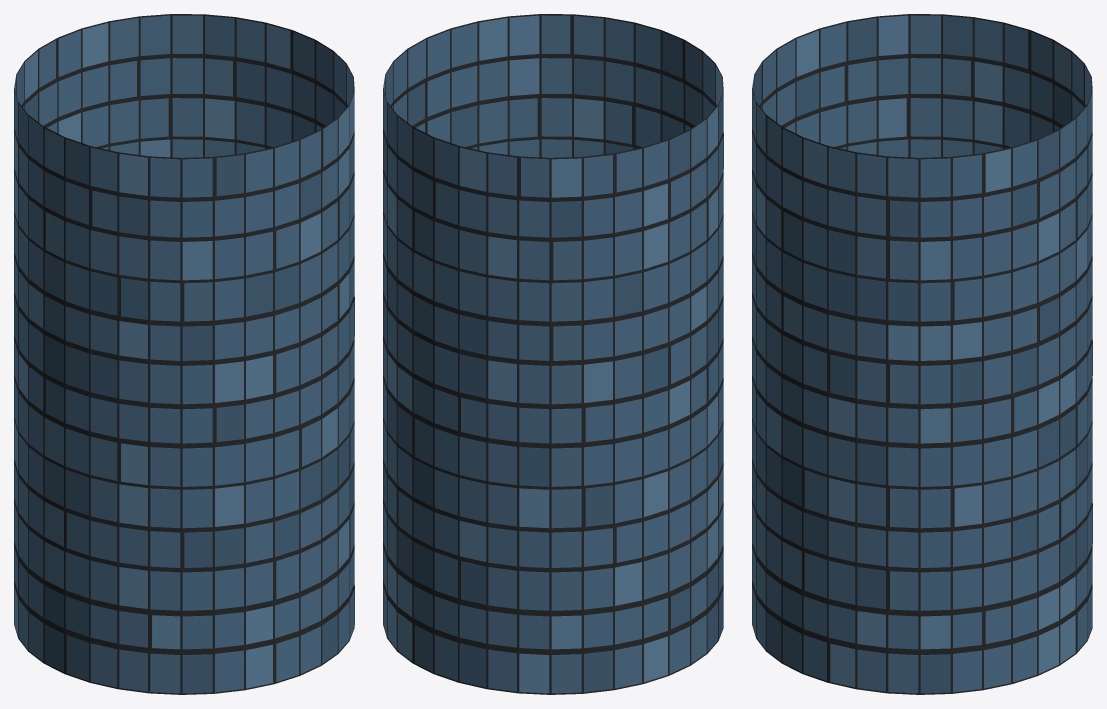
File: bg-office-round.glb
3 renders of one model, left to right at view 1: azimuth 30°, elevation 25°; view 2: azimuth 150°, elevation 25°; view 3: azimuth 270°, elevation 25°, orthographic.
Parts seen in each view (by area): view 1: SM_Bld_OfficeRound_01; view 2: SM_Bld_OfficeRound_01; view 3: SM_Bld_OfficeRound_01.
Boxes of the visible parts, bbox=[...] form: SM_Bld_OfficeRound_01: bbox=[14, 14, 354, 694]; SM_Bld_OfficeRound_01: bbox=[383, 14, 723, 694]; SM_Bld_OfficeRound_01: bbox=[752, 14, 1092, 694].
Size of the model in its own units: 28.73 by 50 by 28.75.
Materials: 1 (1 with a texture image).
